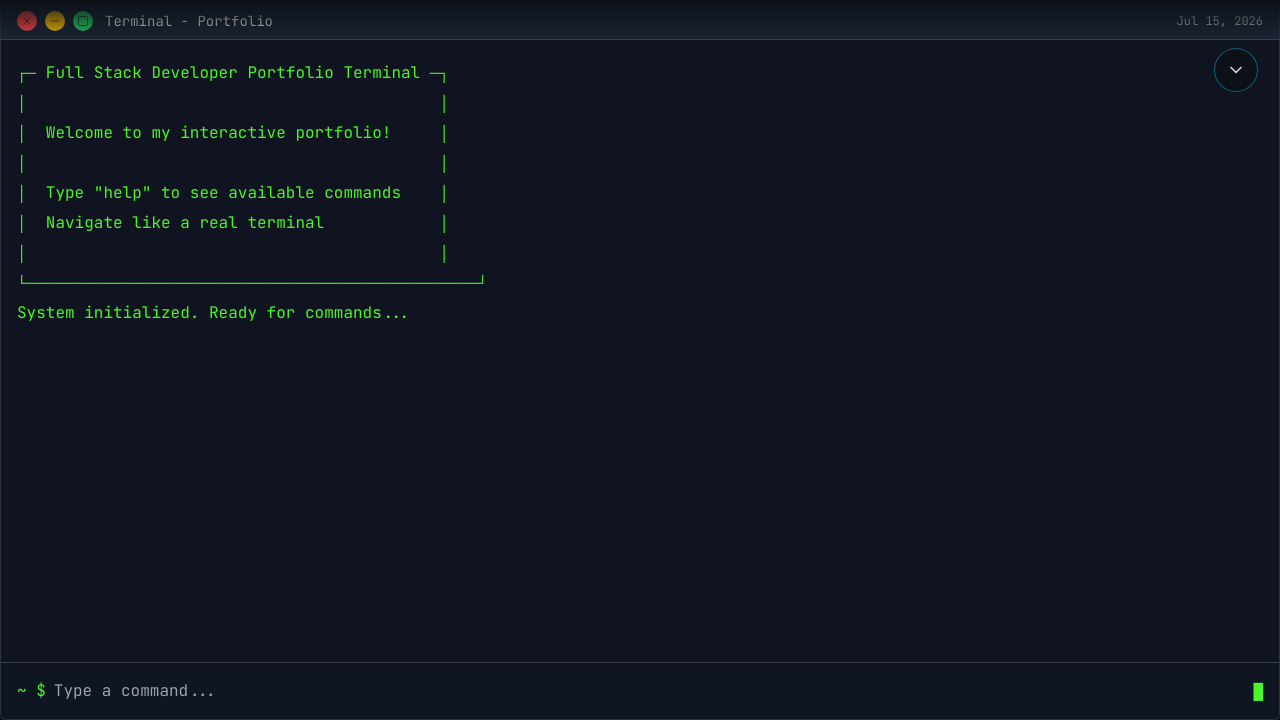
Terminal window controls › hides the terminal when close is pressed
This screenshot has width=1280, height=720.
Step 1. Click the button named "Close terminal" → x=27, y=21, box [17,11,37,31]
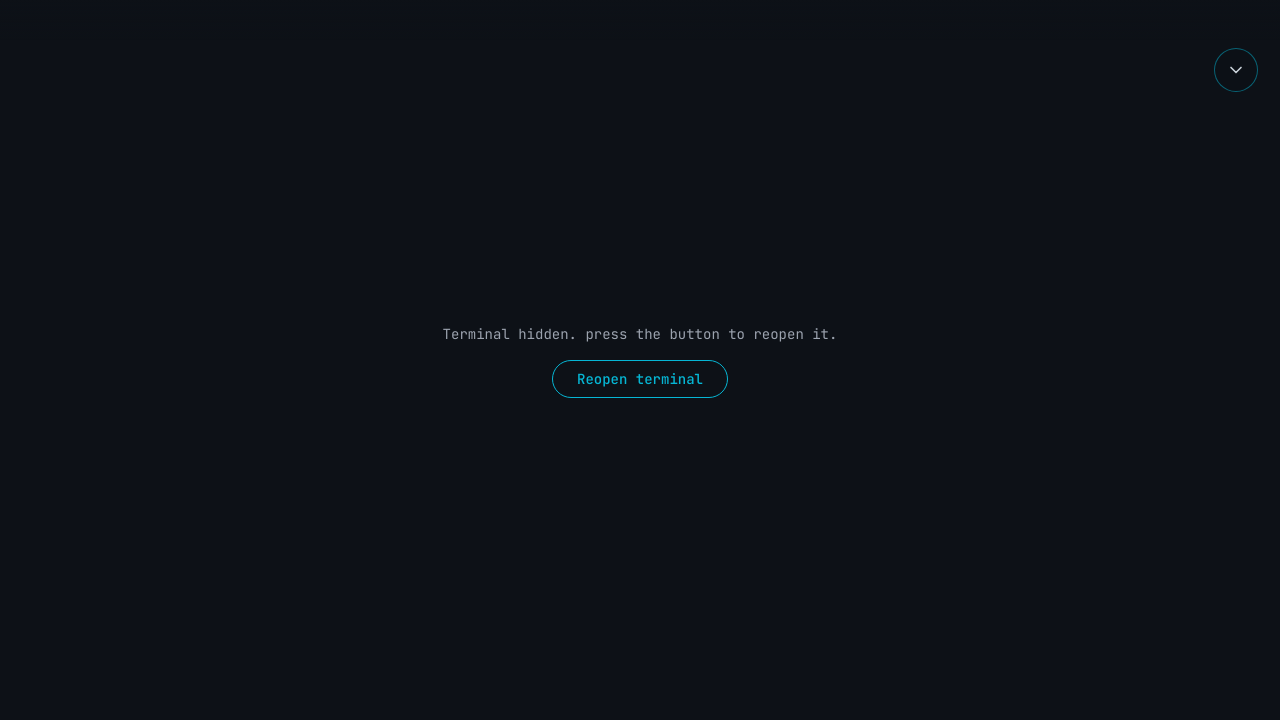
Now the text "Terminal hidden. press the button to reopen it." is shown, box [443,324,837,344]
Now the button "Reopen terminal" is shown, box [552,360,728,398]
